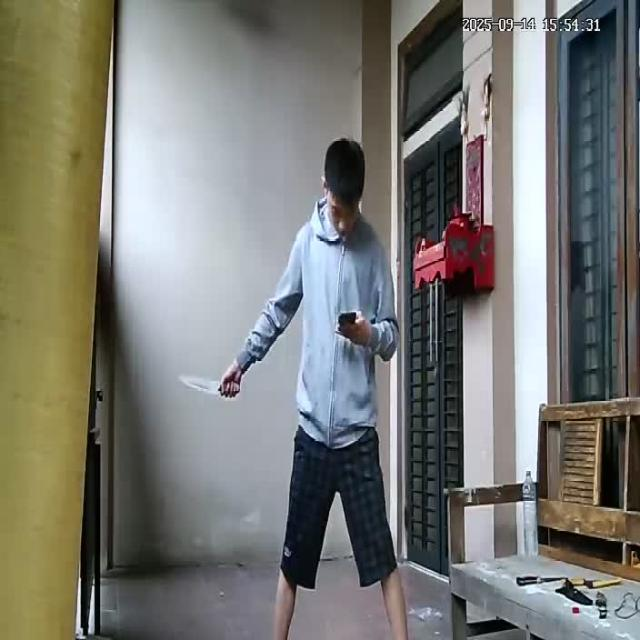senjata_tajam: (177, 373, 223, 396)
